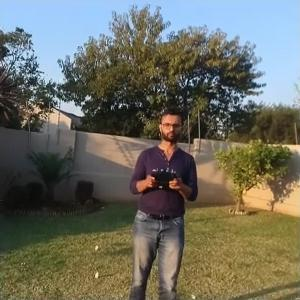follow: (126, 100, 205, 298)
